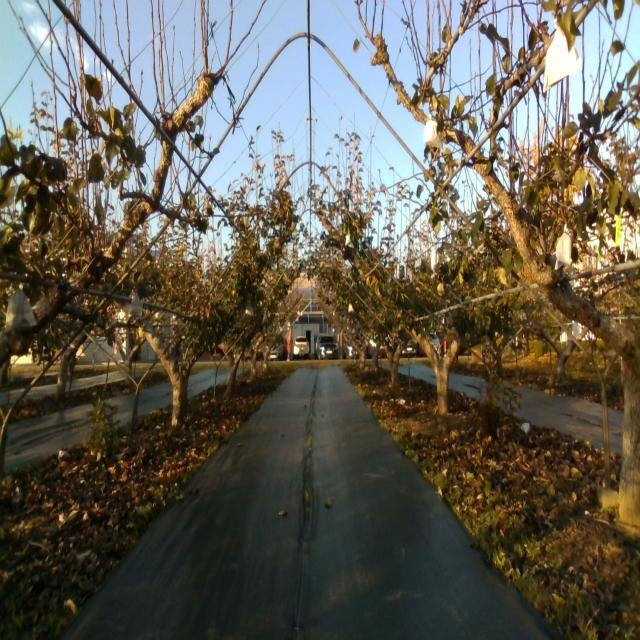pearbags: (543, 20, 583, 93), (5, 288, 38, 329), (554, 223, 572, 271), (423, 113, 444, 150), (129, 294, 143, 316), (430, 248, 440, 273)
